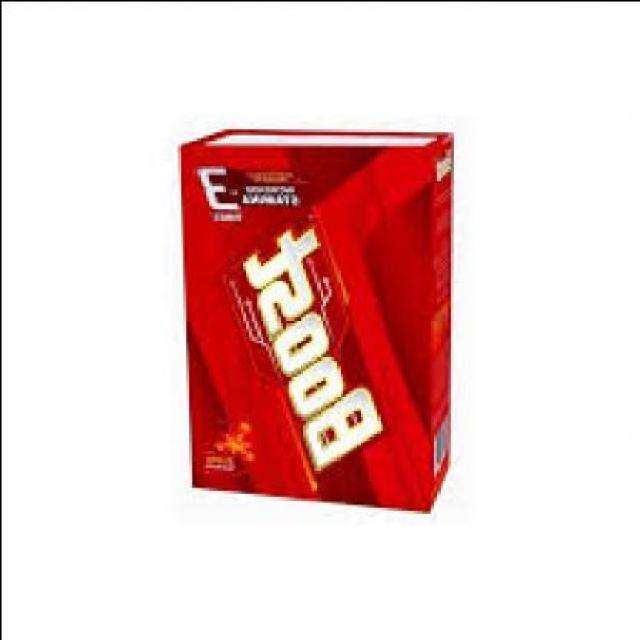CARDBOARD: (182, 125, 452, 506)
